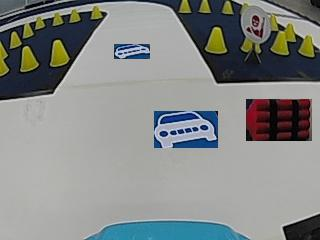evil: (240, 5, 271, 43)
